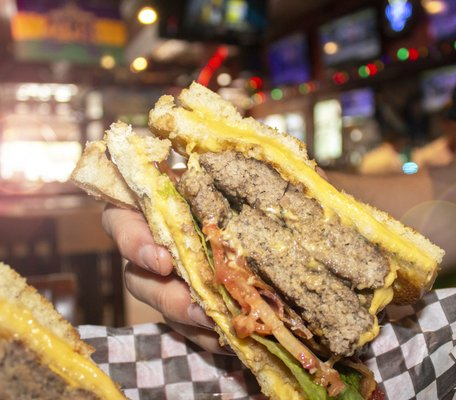soup: (67, 74, 442, 395), (0, 260, 126, 396)
